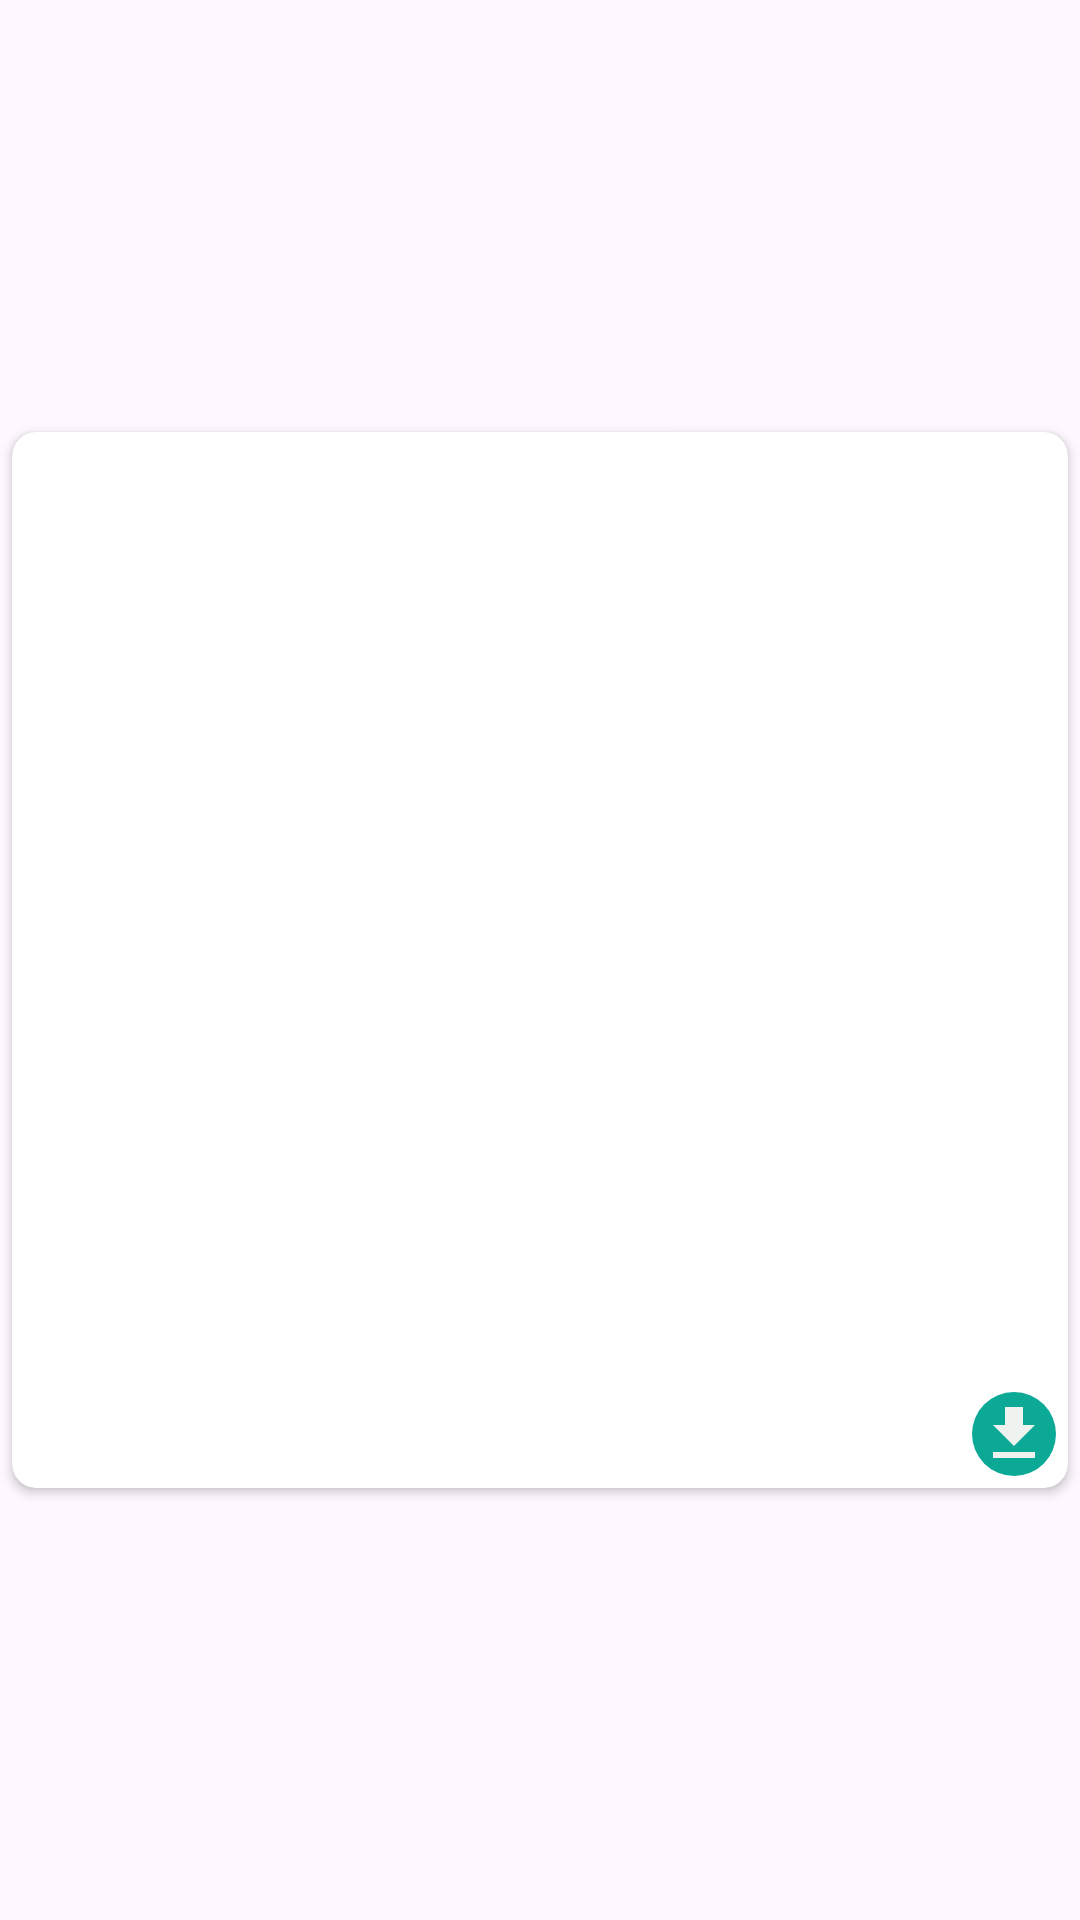

Icons on this 1080 × 1920 Android screen, each with the point to tap as point (x, y):
download: point (1014, 1434)
